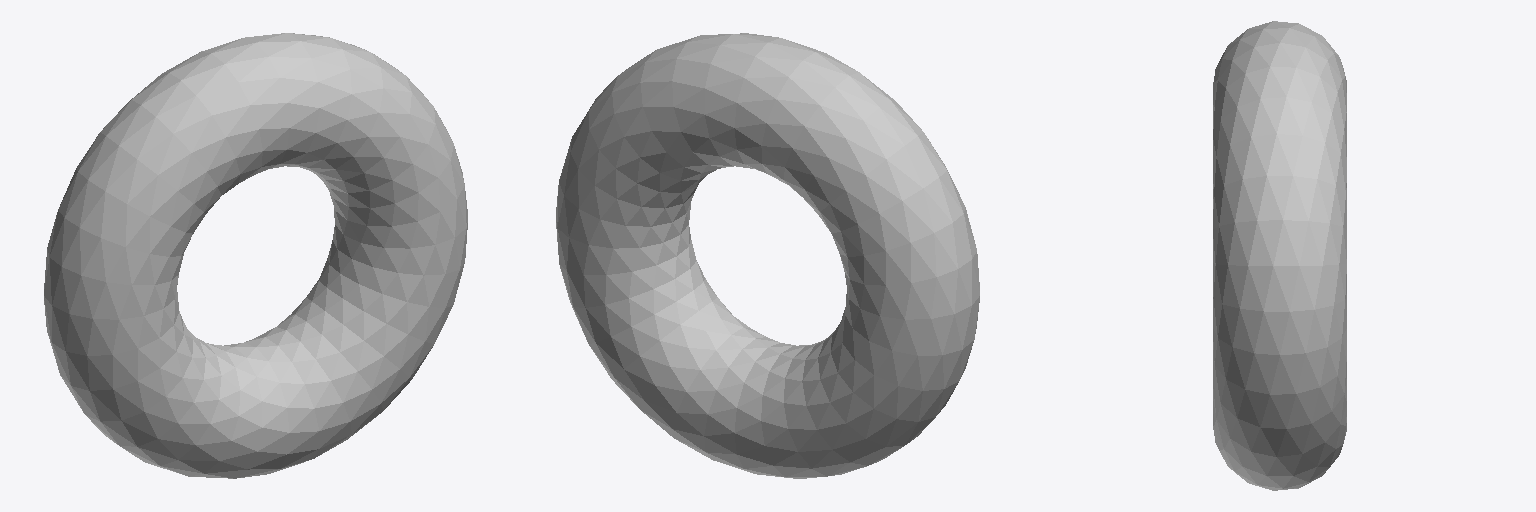
Rendered from torus-twist20.obj.
3 renders of one model, left to right at view 1: azimuth 30°, elevation 25°; view 2: azimuth 150°, elevation 25°; view 3: azimuth 270°, elevation 25°, orthographic.
Parts seen in each view (by area): view 1: torus-twist20_Cylinder.004; view 2: torus-twist20_Cylinder.004; view 3: torus-twist20_Cylinder.004.
Boxes of the visible parts, x1=… form: torus-twist20_Cylinder.004: x1=44, y1=33, x2=467, y2=478; torus-twist20_Cylinder.004: x1=556, y1=33, x2=979, y2=478; torus-twist20_Cylinder.004: x1=1213, y1=21, x2=1346, y2=490.
Bounding box in the file's own units: 2.8 × 2.8 × 0.8.